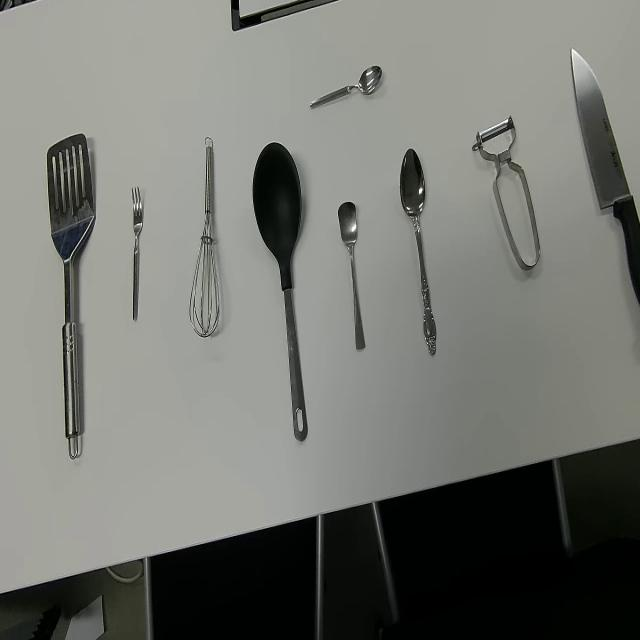Desert-Spoon: (399, 146, 437, 359)
Dinner-Fork: (130, 187, 144, 324)
Kitchen-Knife: (569, 47, 640, 308)
Peeler: (471, 114, 541, 272)
Serving-Spoon: (251, 140, 309, 443), (46, 132, 95, 460)
Tea-Spoon: (337, 202, 367, 352), (308, 63, 382, 113)
Whisk: (188, 135, 220, 338)
